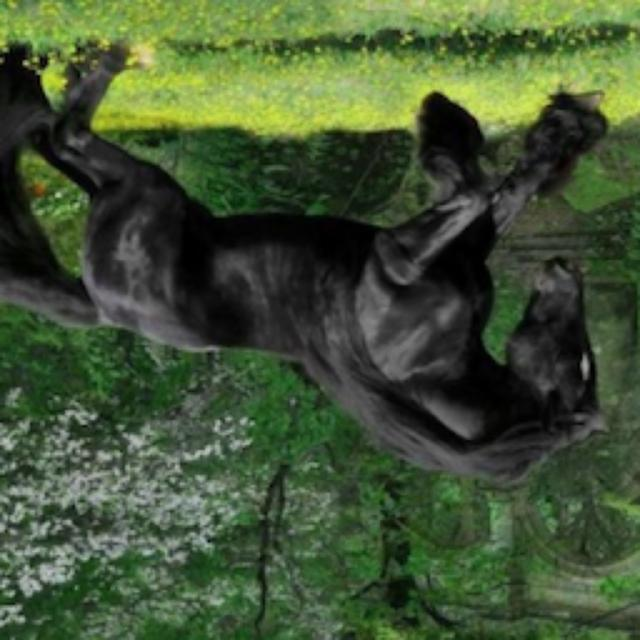Horse: (2, 37, 620, 495)
